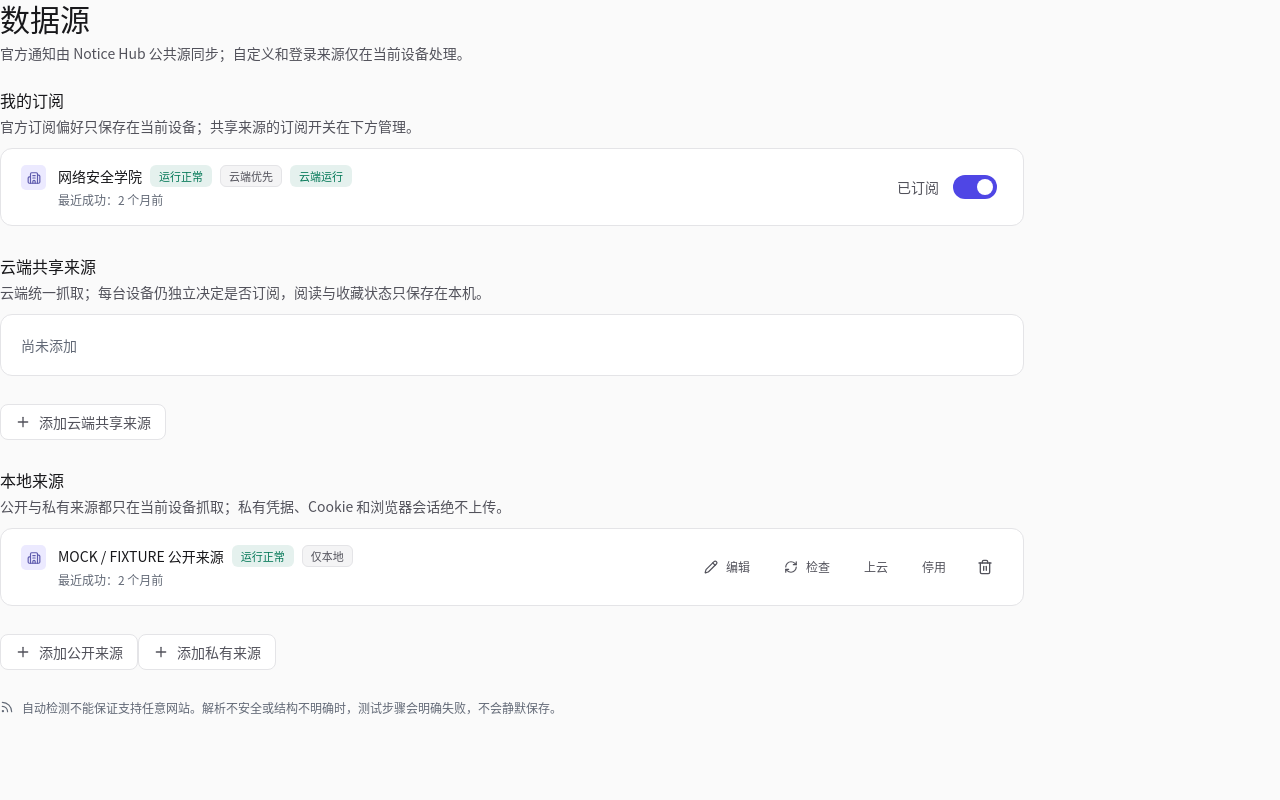
Test: SourcesPage › maps an already-existing cloud source and clears the admin-key dialog
The image size is (1280, 800).
Expected: the heading "MOCK / FIXTURE 公开来源" is shown, [58,546,224,566]
Click the button "上云" at (876, 567), box [851,549,901,585]
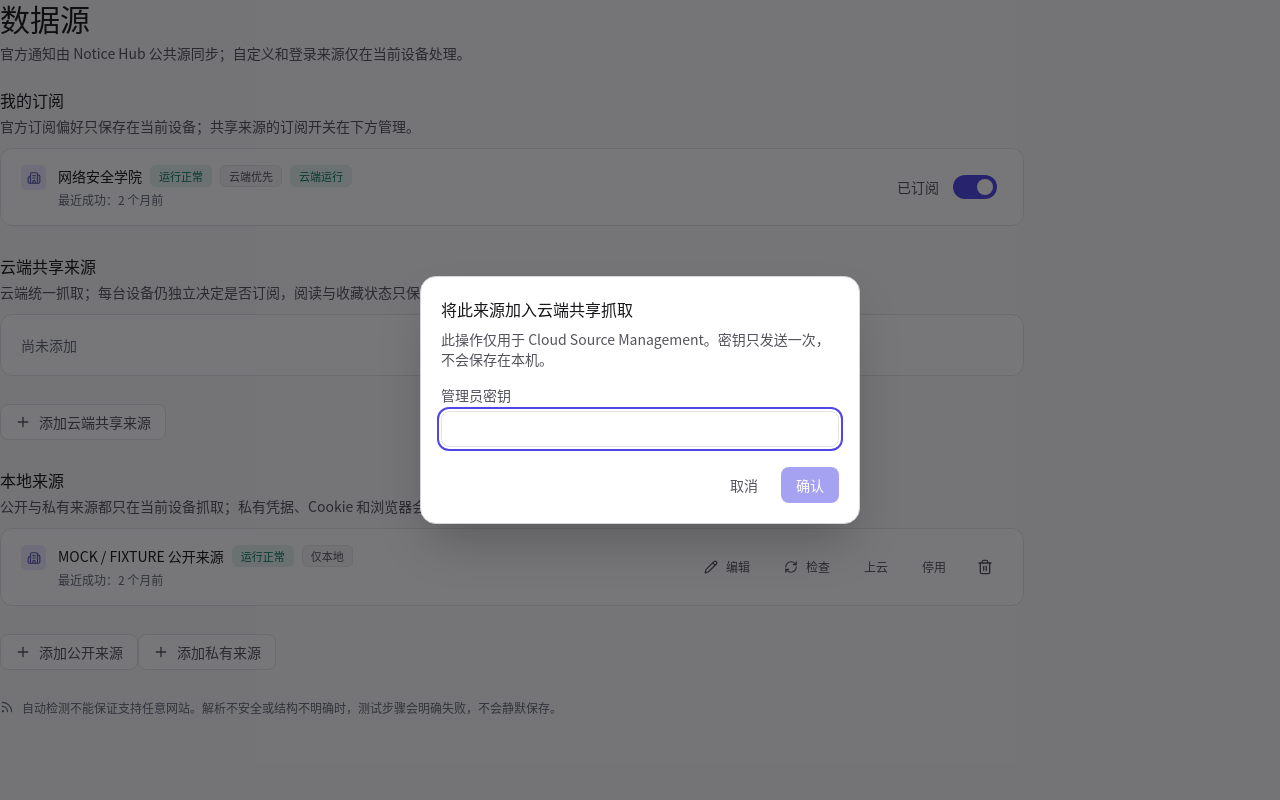
Type "MOCK-FIXTURE-ADMIN" into the password field labelled "管理员密钥" at (640, 429), box [441,411,839,447]
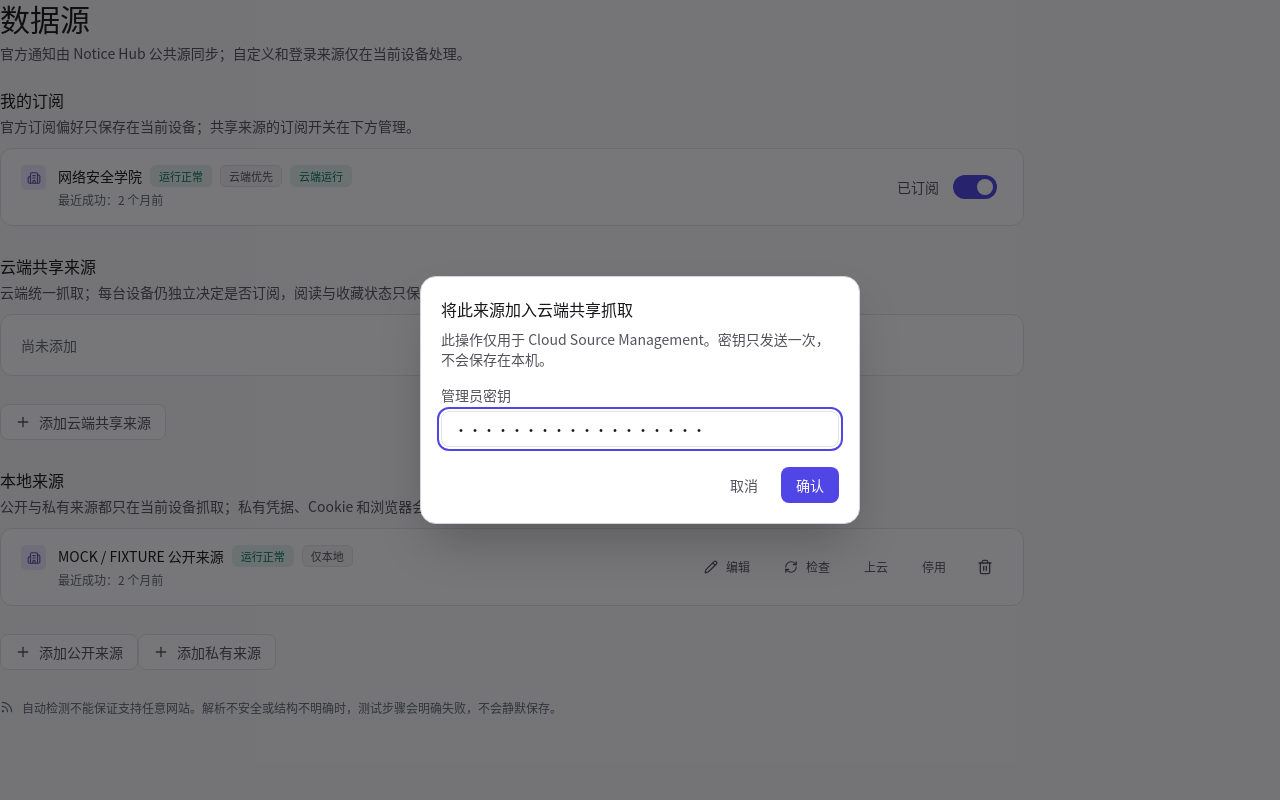
Click the button "确认" at (810, 485), box [781,467,839,503]
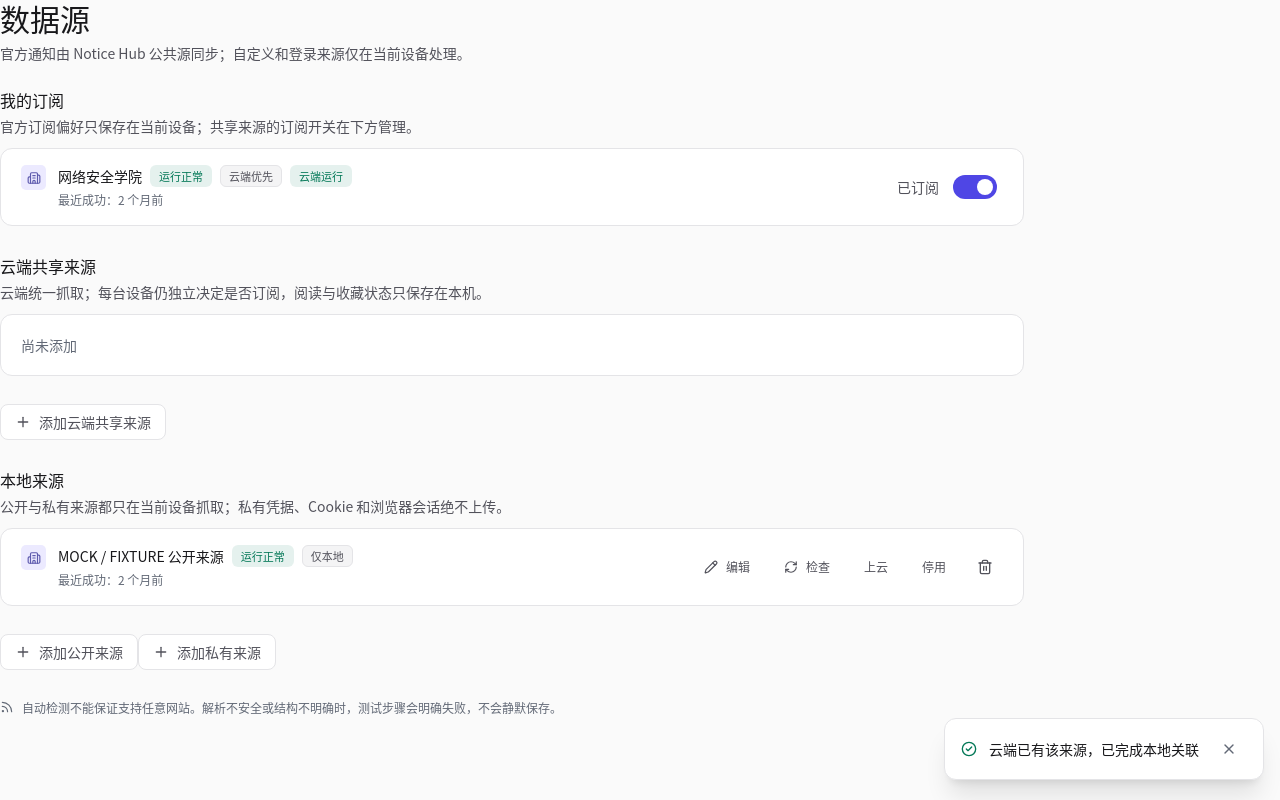
Result: the dialog is gone
Result: the text "云端已有该来源，已完成本地关联" is shown at [989,739,1199,759]
